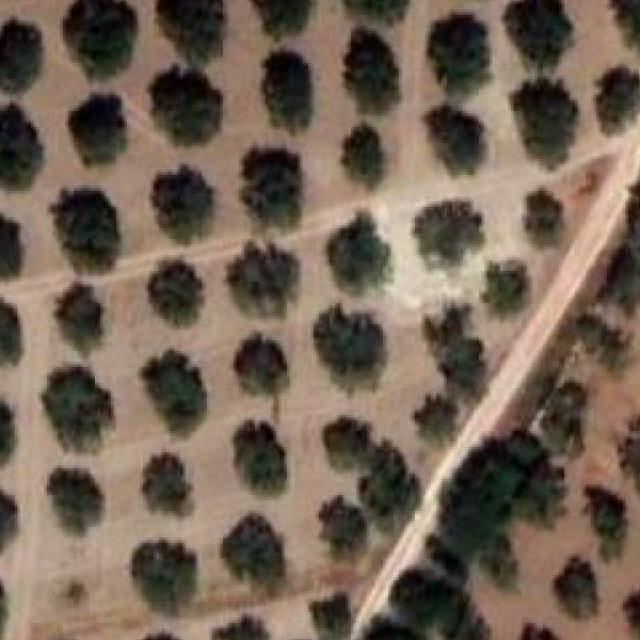Tree: (36, 365, 118, 446), (314, 301, 384, 385), (57, 0, 138, 70), (130, 532, 199, 614), (141, 346, 209, 428), (509, 79, 577, 161), (60, 182, 122, 271), (429, 13, 495, 96), (221, 513, 293, 588), (324, 214, 393, 292), (424, 307, 486, 392), (239, 143, 302, 225), (410, 196, 484, 265), (148, 68, 219, 138), (225, 420, 288, 497), (344, 29, 402, 111), (233, 242, 296, 314), (148, 162, 202, 243), (66, 89, 127, 158), (263, 47, 317, 124), (506, 0, 568, 66), (158, 0, 225, 60), (514, 459, 570, 529), (50, 287, 110, 352), (0, 106, 47, 188), (424, 106, 488, 166), (45, 466, 101, 532), (228, 332, 287, 394), (143, 260, 199, 324), (0, 15, 44, 95), (362, 447, 412, 517), (540, 381, 589, 452), (391, 564, 448, 623), (143, 449, 194, 512), (247, 0, 317, 45), (319, 415, 374, 472), (573, 311, 627, 368), (554, 557, 602, 620), (314, 495, 367, 552), (476, 533, 527, 590), (584, 483, 634, 541), (599, 61, 640, 128), (344, 121, 386, 186), (346, 607, 428, 640), (308, 594, 358, 638), (522, 186, 561, 242), (614, 412, 640, 494), (488, 262, 531, 310), (413, 391, 454, 438), (340, 0, 418, 23), (609, 0, 640, 57), (212, 609, 262, 640), (0, 214, 22, 284), (617, 585, 640, 640), (0, 301, 18, 368), (0, 399, 17, 464), (0, 481, 15, 554), (511, 623, 557, 640), (130, 633, 183, 640), (0, 582, 4, 639)
